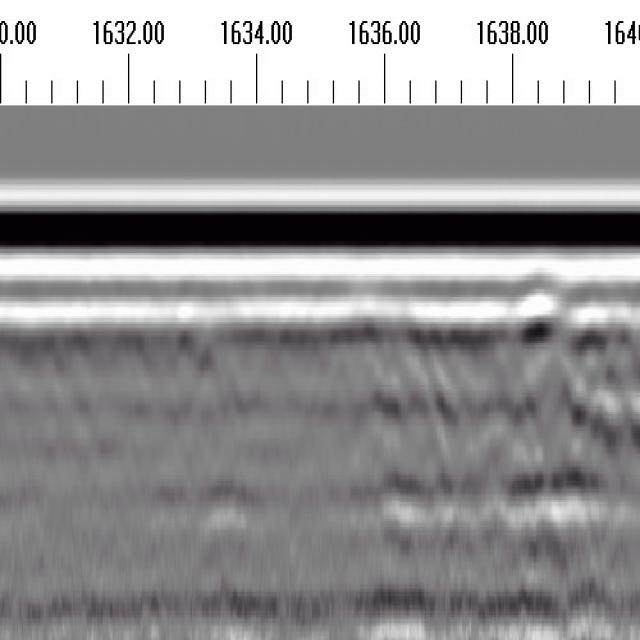loose: (372, 277, 636, 532)
